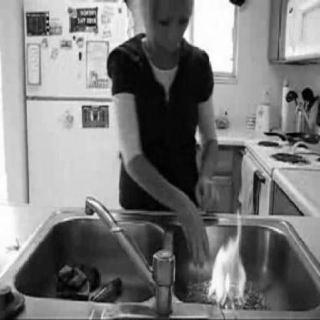Fire: (183, 196, 265, 312)
